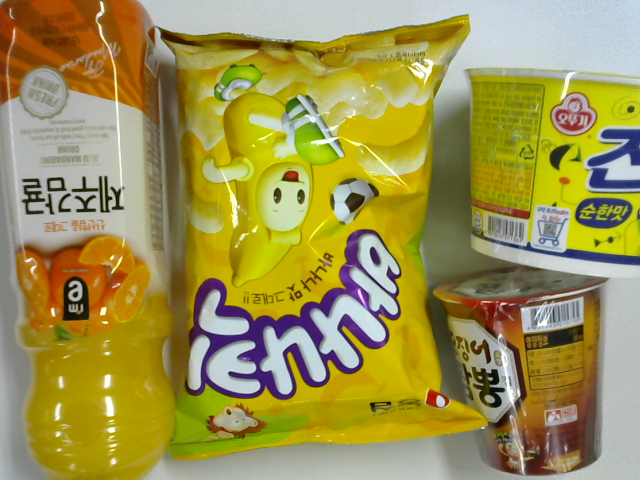Banana_Kick: (155, 22, 491, 458)
Jeju_Tangerine_1.5L: (7, 6, 173, 476)
Jinlamyeon_Mild_Taste_Large_Cup: (461, 58, 640, 280)
Ojjam: (433, 264, 623, 480)
